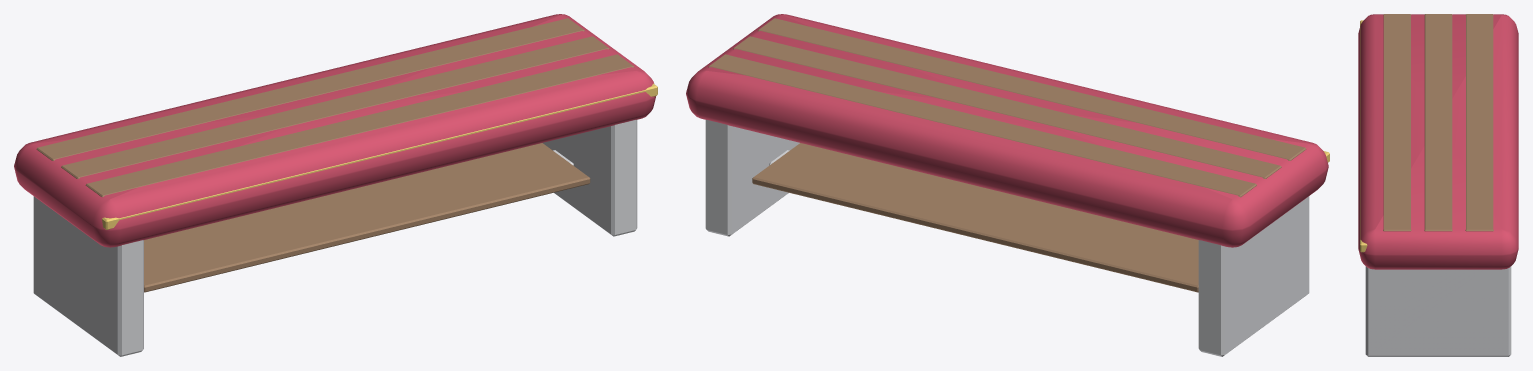
The model's file is cinema-multiplex-and-foyer-foyer-bench-a0ef69e6__34684.glb.
3 views of the same model, side by side, from view 1: azimuth 30°, elevation 25°; view 2: azimuth 150°, elevation 25°; view 3: azimuth 270°, elevation 25° (orthographic). The views are drawn at different scales.
Parts seen in each view (by area): view 1: foyer-bench; view 2: foyer-bench; view 3: foyer-bench.
Boxes of the visible parts, x1=… form: foyer-bench: x1=14, y1=14, x2=657, y2=356; foyer-bench: x1=686, y1=14, x2=1329, y2=356; foyer-bench: x1=1358, y1=14, x2=1518, y2=356.
Bounding box in the file's own units: 1.71 × 0.4552 × 0.507.
